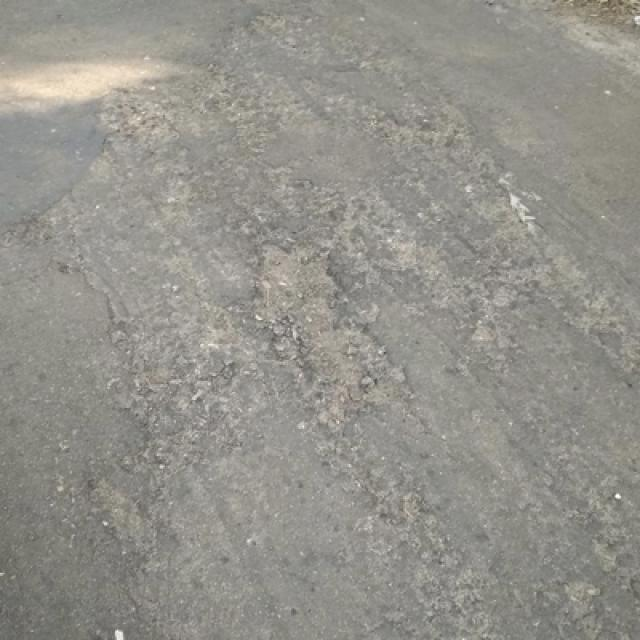jalan_berlubang: (231, 228, 407, 420)
